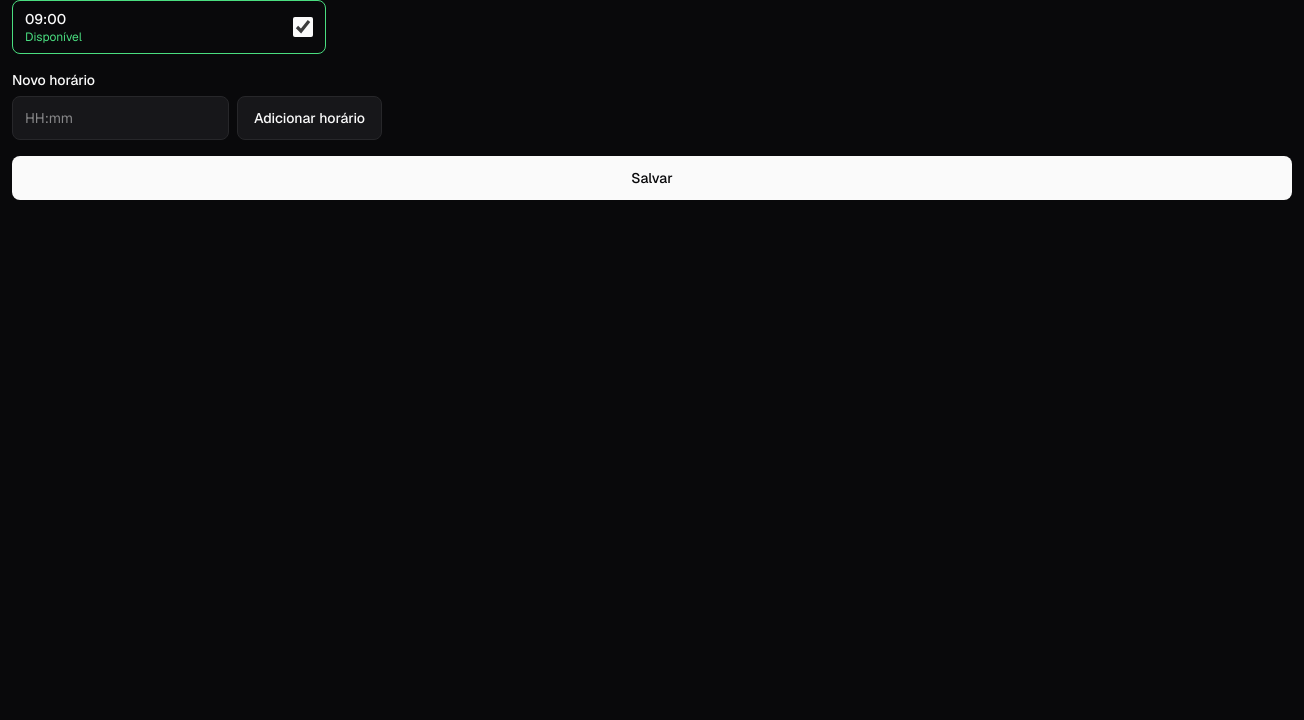
Test: ScheduleSlotGrid › exibe o toast de sucesso após salvar
This screenshot has width=1304, height=720.
Click the button "Salvar" at (652, 178), box [12, 156, 1292, 200]
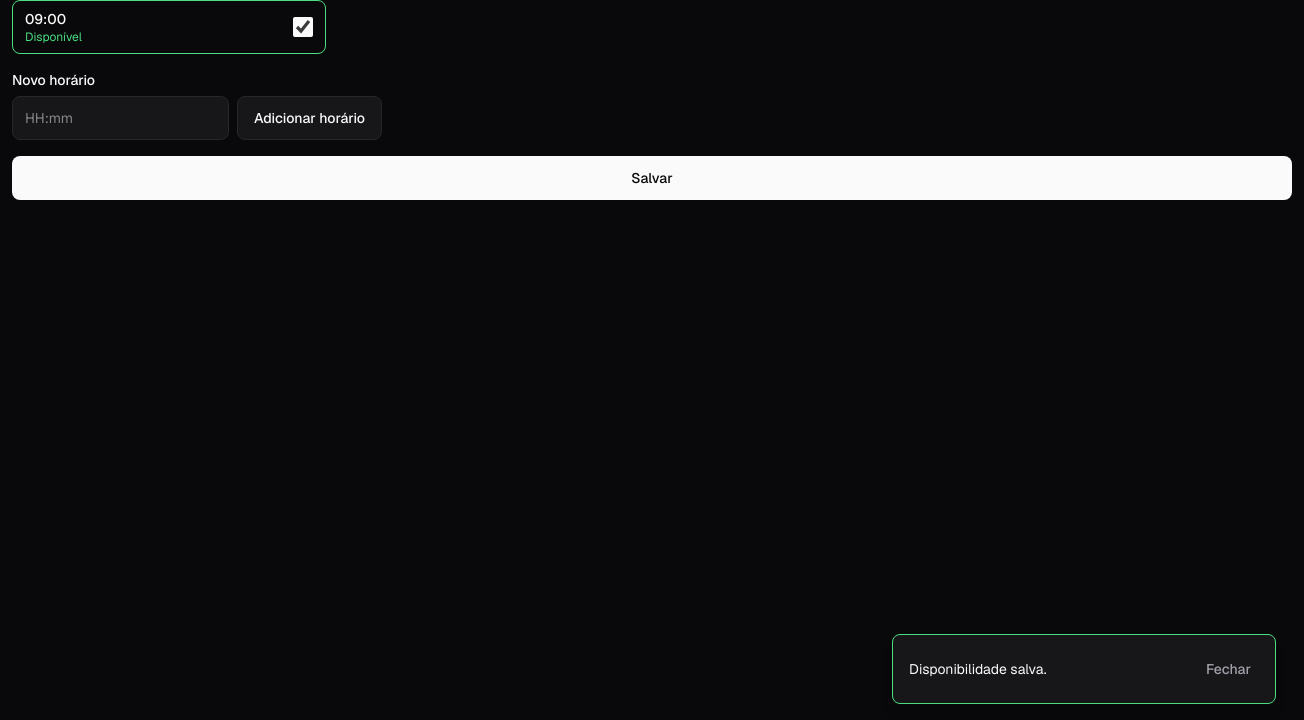
Check: the text "Disponibilidade salva." is shown, box [909, 659, 1047, 679]
